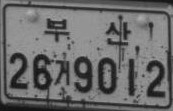0: (96, 56, 117, 95)
1: (121, 57, 141, 96)
2: (145, 58, 166, 98), (9, 51, 28, 89)
6: (31, 52, 52, 90)
9: (73, 54, 93, 93)
거: (53, 59, 71, 86)
부산_D: (43, 16, 133, 47)
